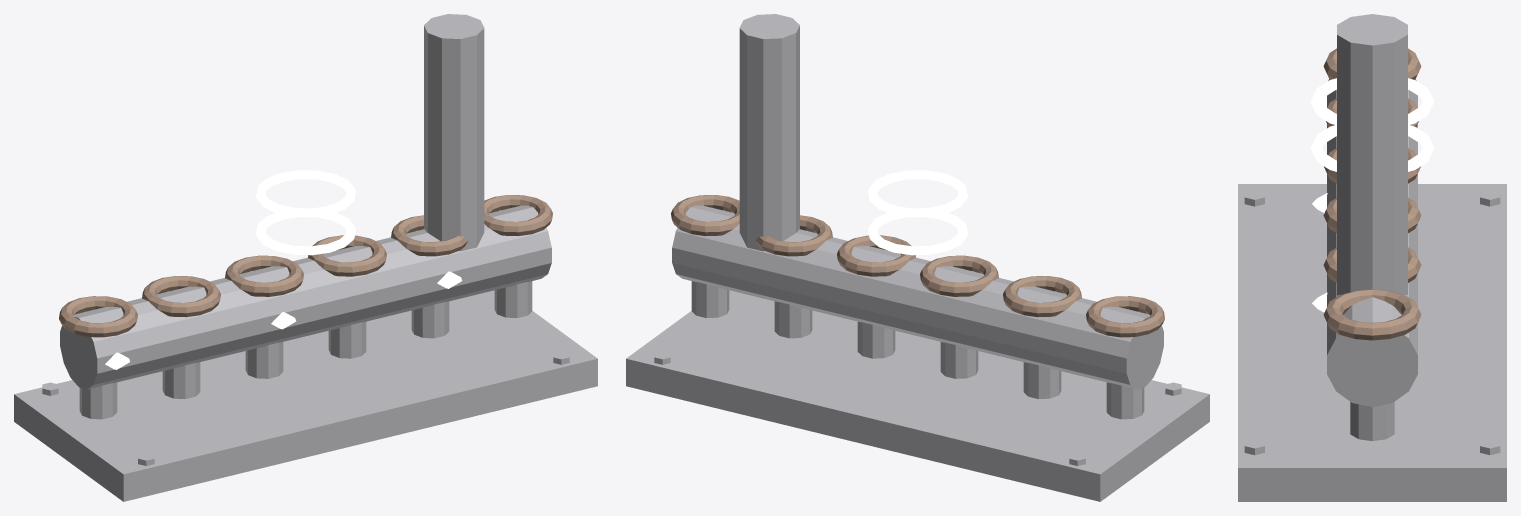
File: pipeline_legendary.glb
3 renders of one model, left to right at view 1: azimuth 30°, elevation 25°; view 2: azimuth 150°, elevation 25°; view 3: azimuth 270°, elevation 25°, orthographic. The views are drawn at different scales.
Parts seen in each view (by area): view 1: pipeline; view 2: pipeline; view 3: pipeline.
Part boxes in pixels (left/top/right/bottom): pipeline: left=14, top=14, right=597, bottom=501; pipeline: left=626, top=14, right=1209, bottom=501; pipeline: left=1238, top=14, right=1506, bottom=501.
Bounding box in the file's own units: 2.94 × 1.98 × 1.15.
